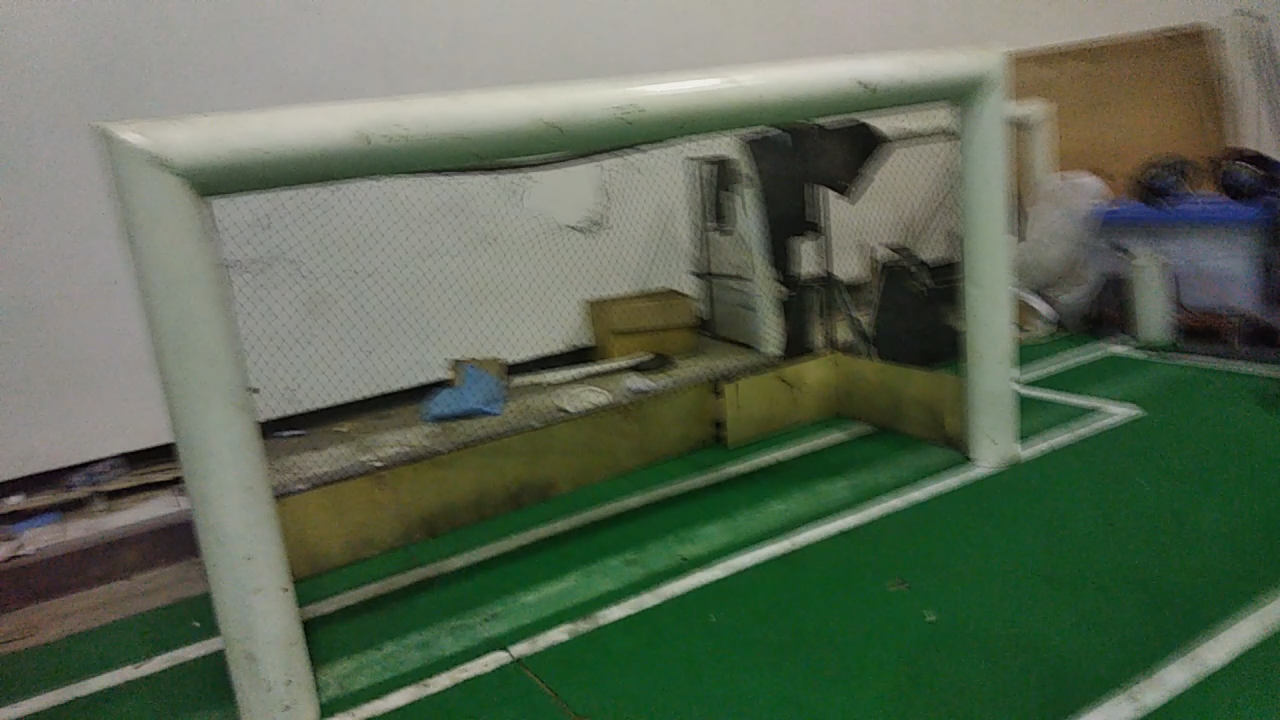gawang: (72, 32, 1030, 719)
